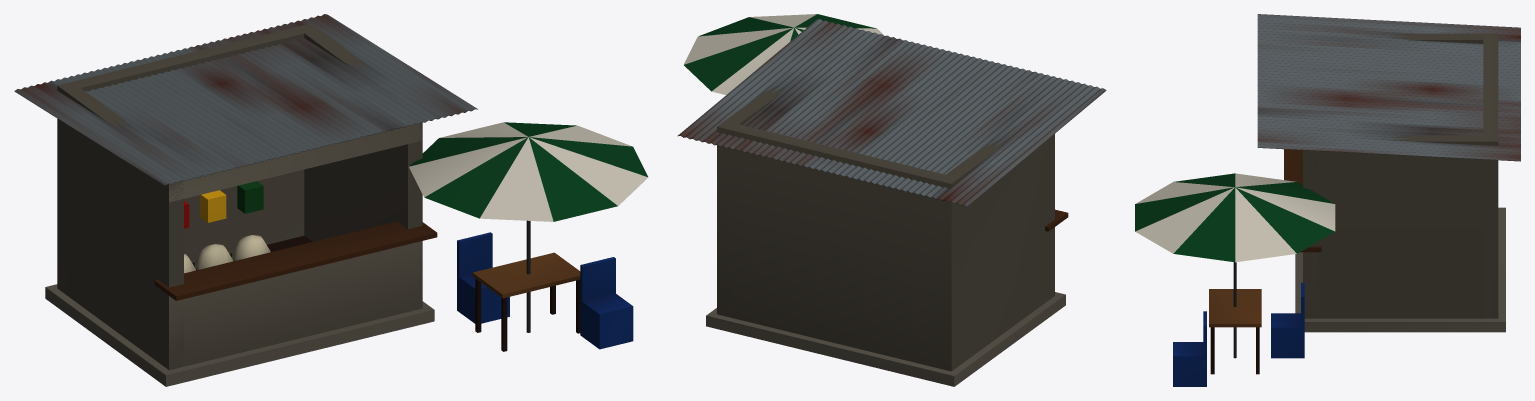
The model's file is fm_office.glb.
3 renders of one model, left to right at view 1: azimuth 30°, elevation 25°; view 2: azimuth 150°, elevation 25°; view 3: azimuth 270°, elevation 25°, orthographic. The views are drawn at different scales.
Visible parts, largest first — view 1: fm_office; view 2: fm_office; view 3: fm_office.
Boxes of the visible parts, box(x1,y1,x2,y2) form: fm_office: box(14, 14, 648, 386); fm_office: box(678, 14, 1106, 386); fm_office: box(1135, 14, 1520, 386).
Size of the model in its own units: 6.1 by 2.89 by 5.13.
